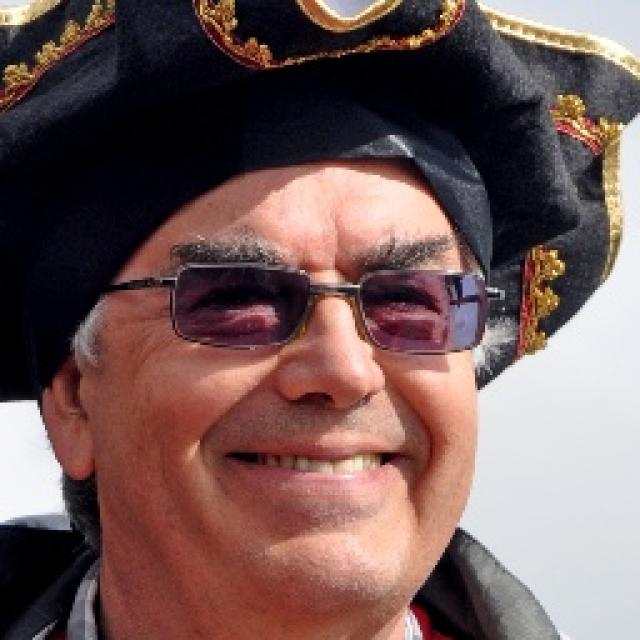earlobe: (24, 290, 97, 482)
